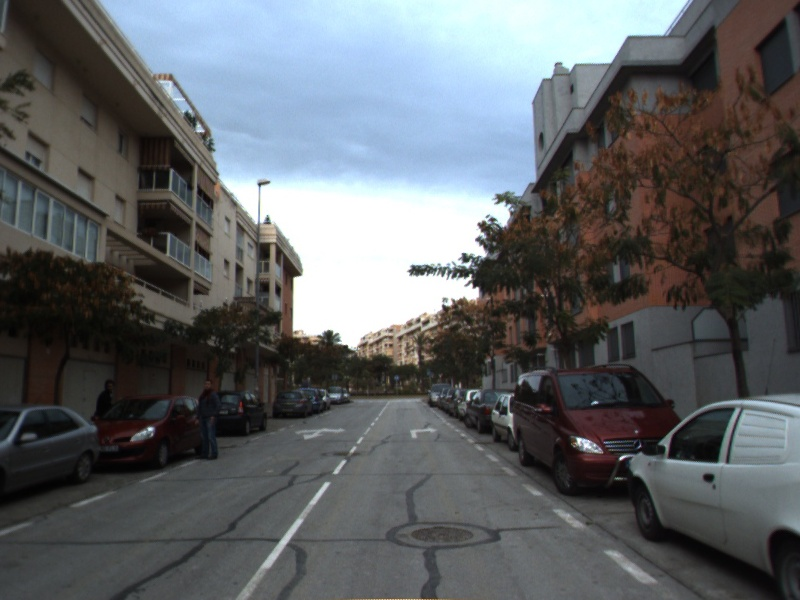RIGHT: (408, 424, 440, 440)
